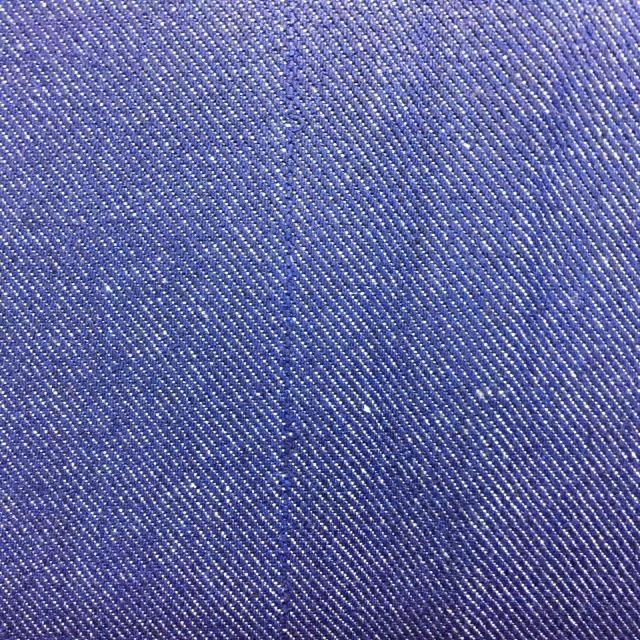Line: (266, 0, 307, 640)
